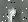person: (6, 7, 12, 22), (11, 9, 16, 17)
